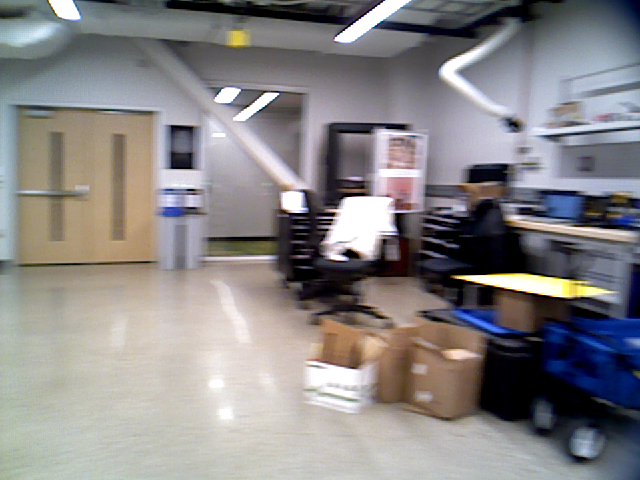painting1: (161, 125, 202, 173)
